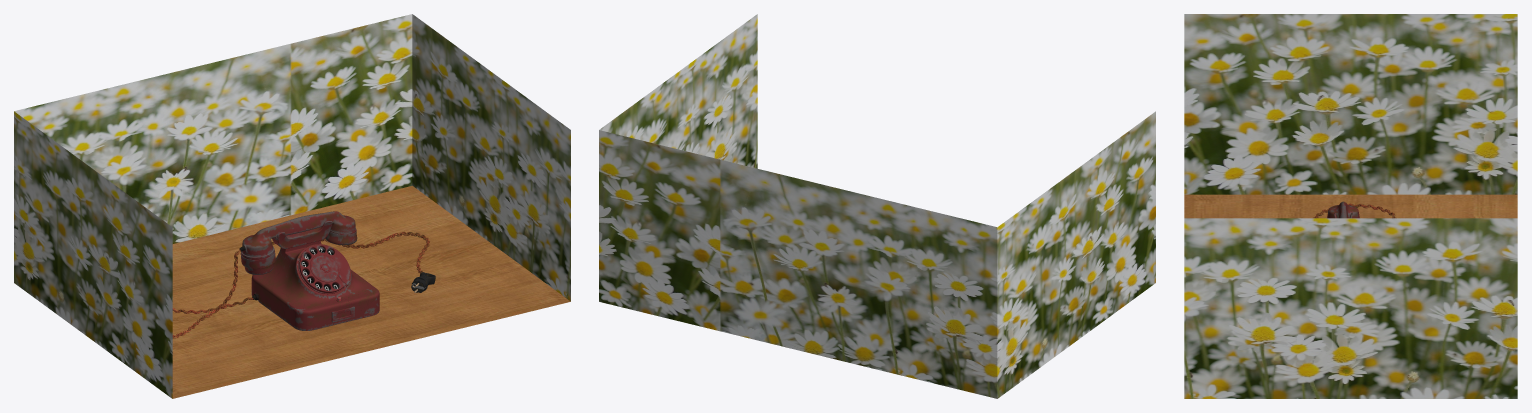
Rendered from Telephon_Siemens.fbx.
3 views of the same model, side by side, from view 1: azimuth 30°, elevation 25°; view 2: azimuth 150°, elevation 25°; view 3: azimuth 270°, elevation 25° (orthographic). The views are drawn at different scales.
Visible parts, largest first — view 1: Environment, Telephon, Recover, Disk, Fork, Holder, Cord; view 2: Environment; view 3: Environment, Recover.
Part boxes in pixels (box(x1,y1,x2,y2)): Environment: box(14, 14, 570, 398); Telephon: box(251, 240, 379, 330); Recover: box(240, 211, 357, 274); Disk: box(298, 244, 349, 294); Fork: box(271, 232, 435, 292); Holder: box(272, 221, 332, 248); Cord: box(172, 246, 255, 338); Environment: box(599, 14, 1155, 398); Environment: box(1184, 14, 1517, 398); Recover: box(1327, 201, 1359, 218).
Size of the model in its own units: 46.23 by 19.04 by 31.86.
5 materials, 5 textured.
